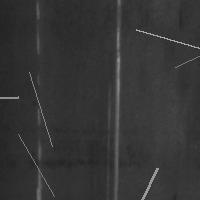scratches: (13, 129, 59, 200), (108, 1, 123, 200), (24, 67, 57, 151), (131, 24, 200, 59), (31, 48, 42, 199), (170, 22, 200, 72), (137, 163, 162, 200), (31, 1, 44, 59), (0, 92, 23, 104)
